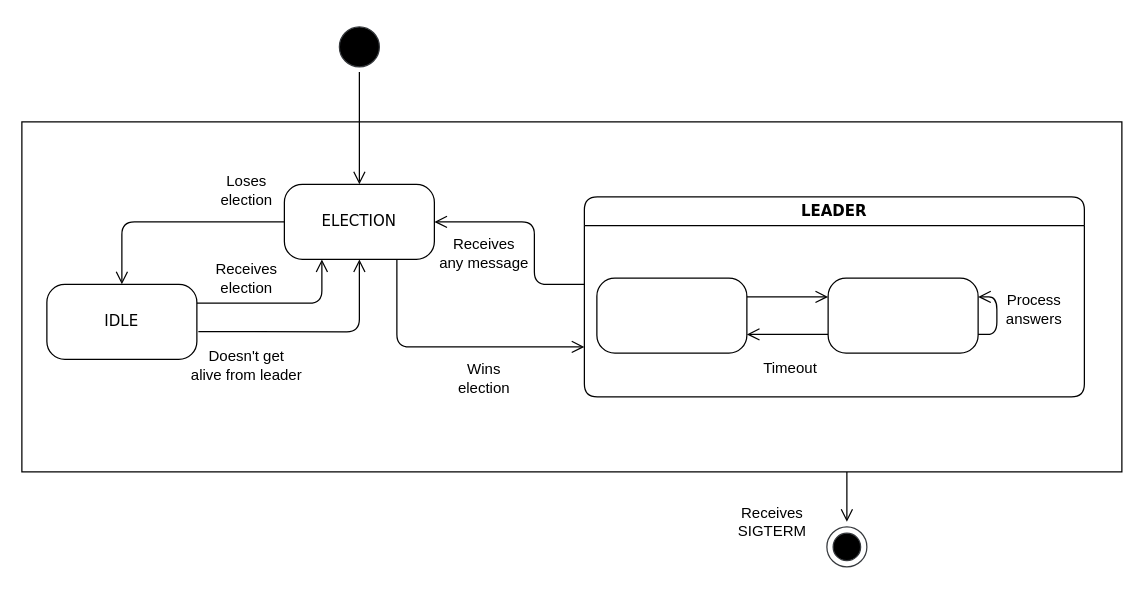
Some shapes in this 1144 by 594 pixel diagram are drawn without their labels. The shapes that lost their labels are listed below. From the top down, each one's box as (x1, y1, x2, y2) in pixels, then its label:
(596, 277, 747, 353): Reviving
(827, 277, 978, 353): Health Checking
